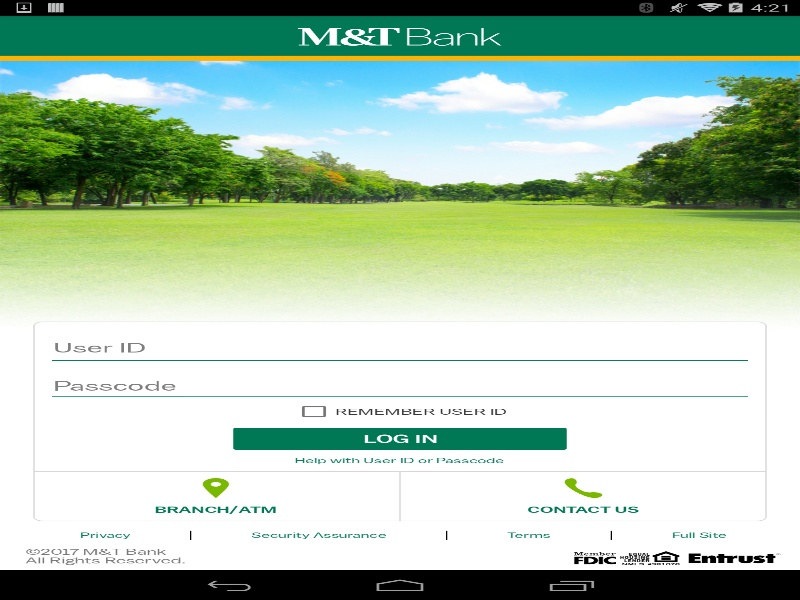Button: (233, 427, 566, 449)
Input: (46, 333, 753, 365), (46, 371, 753, 401)
